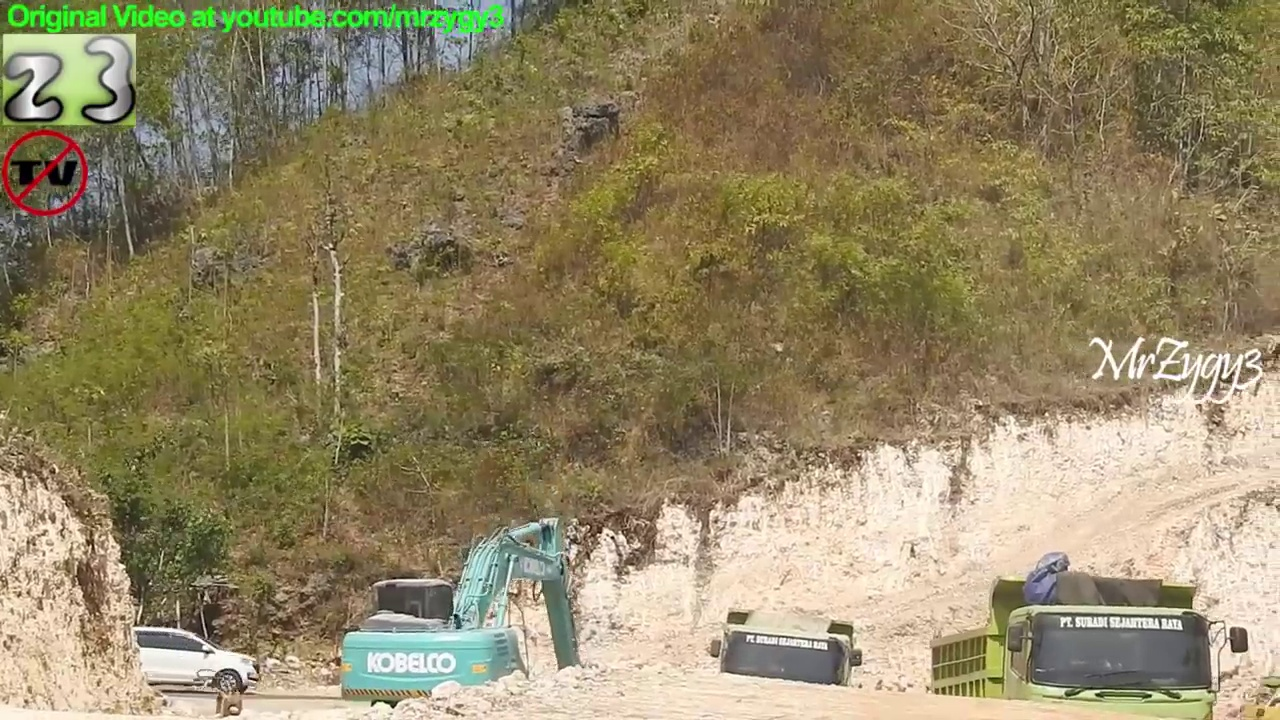excavator: (334, 512, 610, 720)
truck: (920, 568, 1255, 720), (705, 602, 867, 720)
